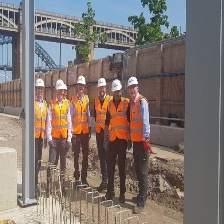person: (48, 79, 72, 196)
